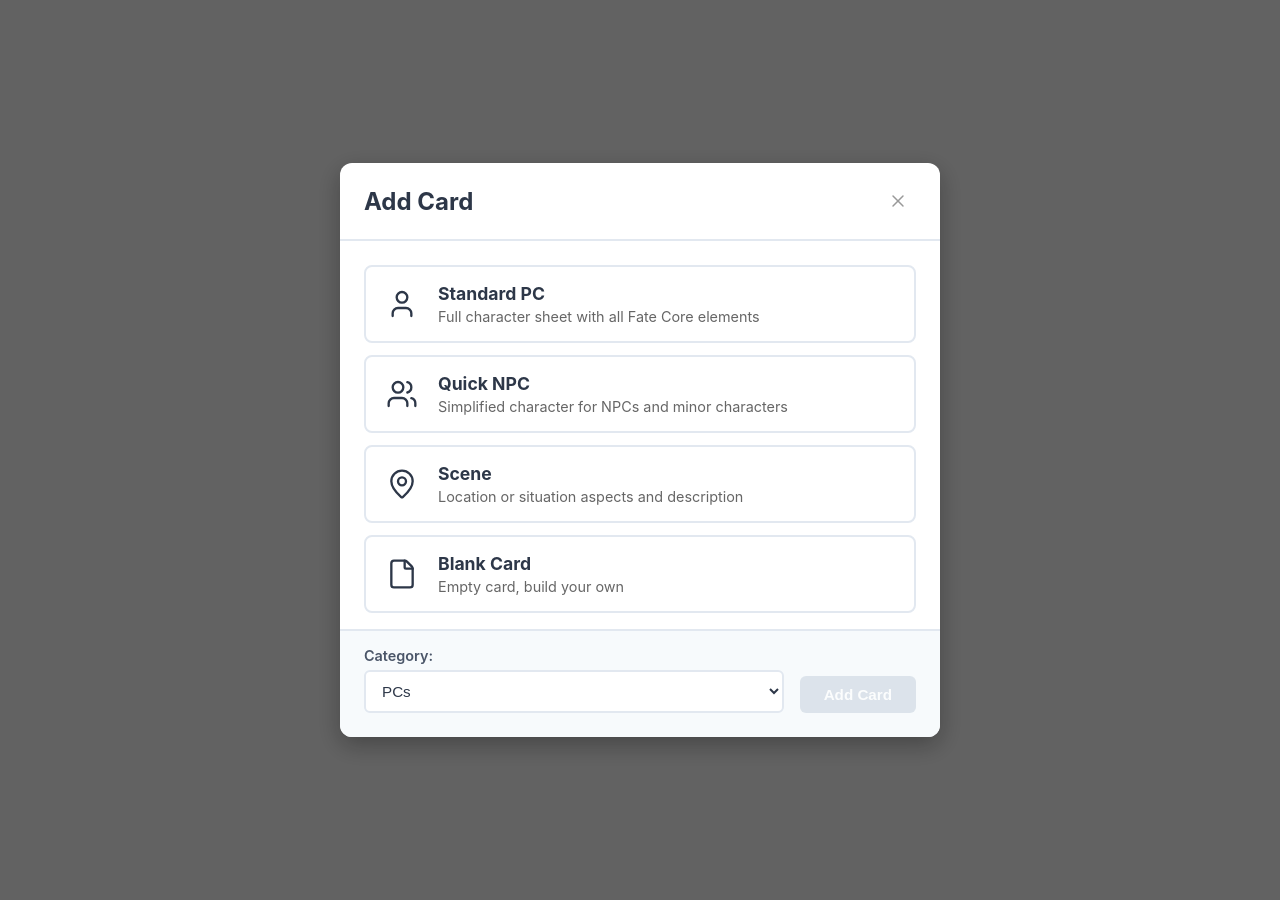
Test: TemplateModal › should enable Add Card button when template and category selected
Click the heading "Standard PC": (491, 294) [438,283,545,304]
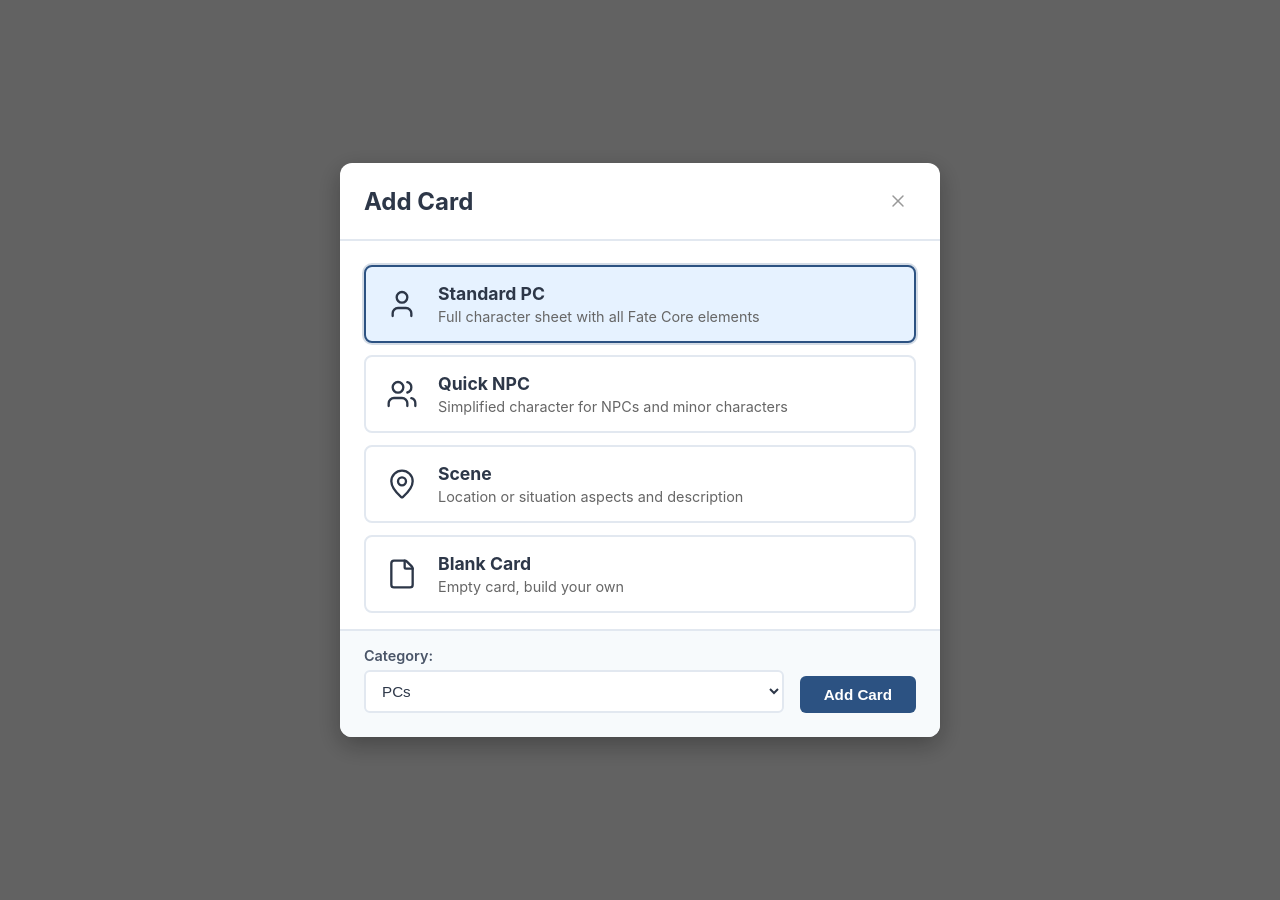
Check: the button "Add Card" is enabled, box [800,676,916,713]
